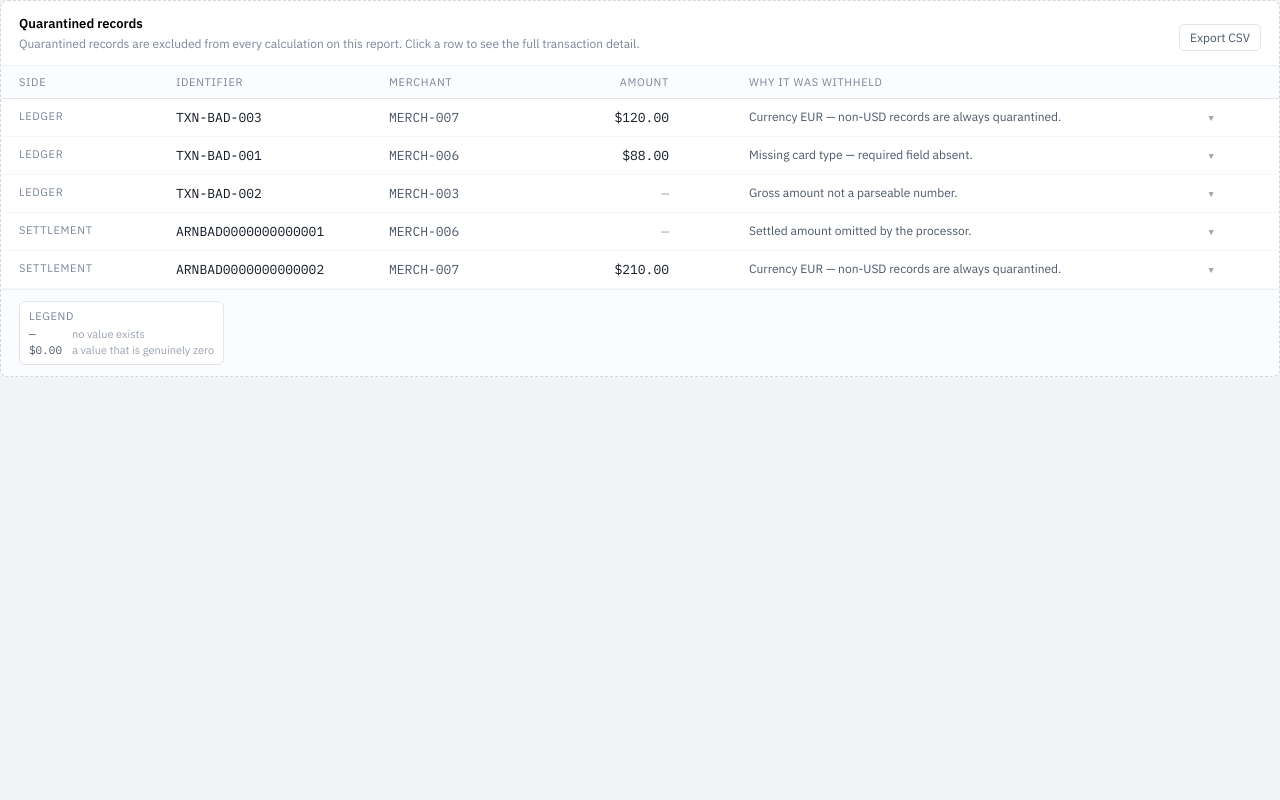
Test: QuarantineTab › expands a row into its detail and collapses it again
Click the 2nd row.
click(617, 118)  # box [19,109,1215,126]
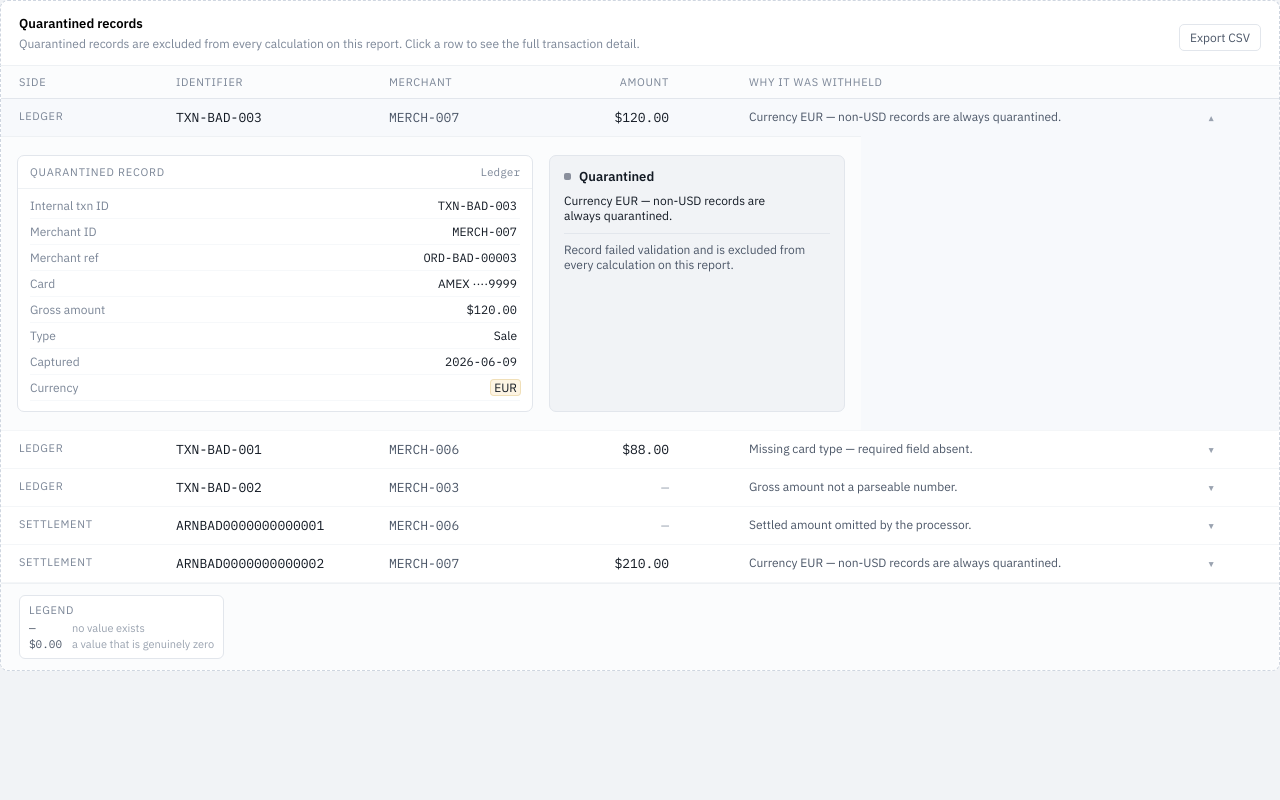
expect the text "Quarantined record" is shown: met, box [30,165,165,179]
Click the 2nd row.
click(640, 118)  # box [1,99,1279,136]
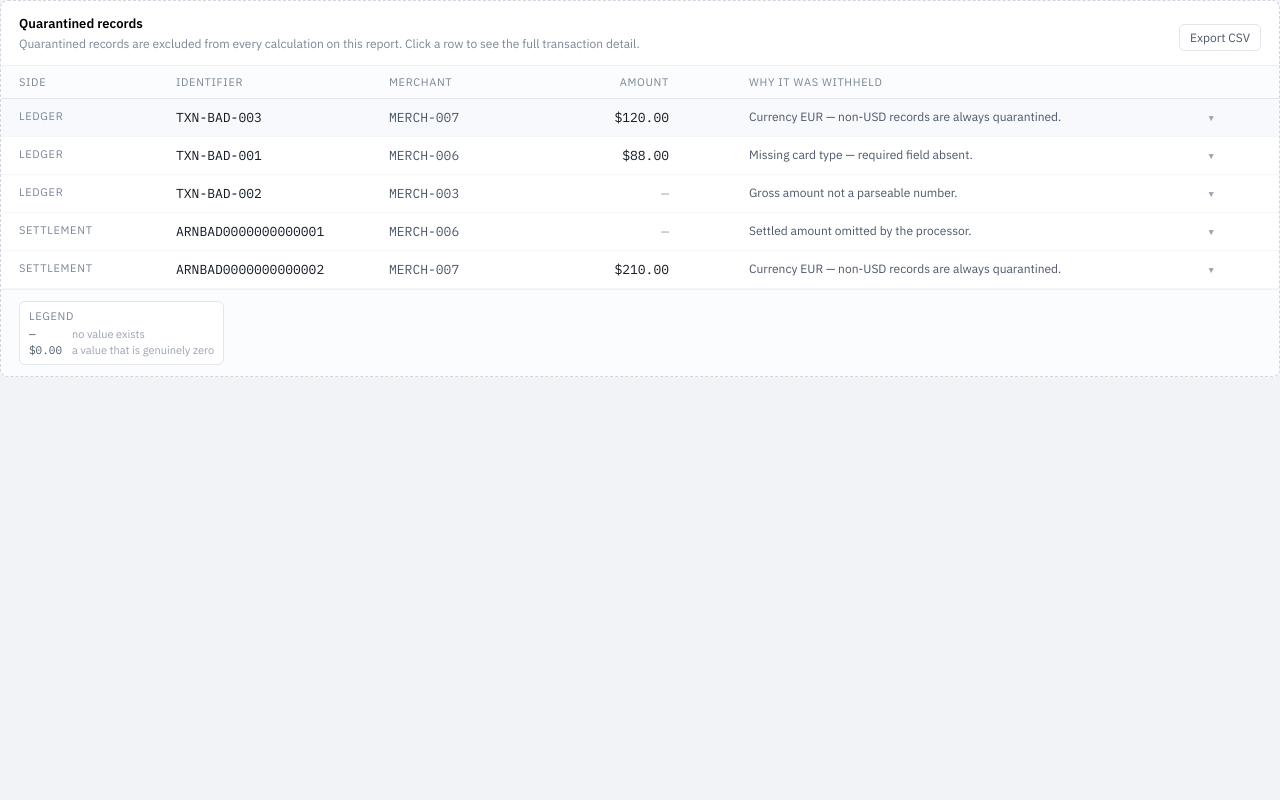
expect the 2nd row is collapsed: met, box [19,109,1215,126]
